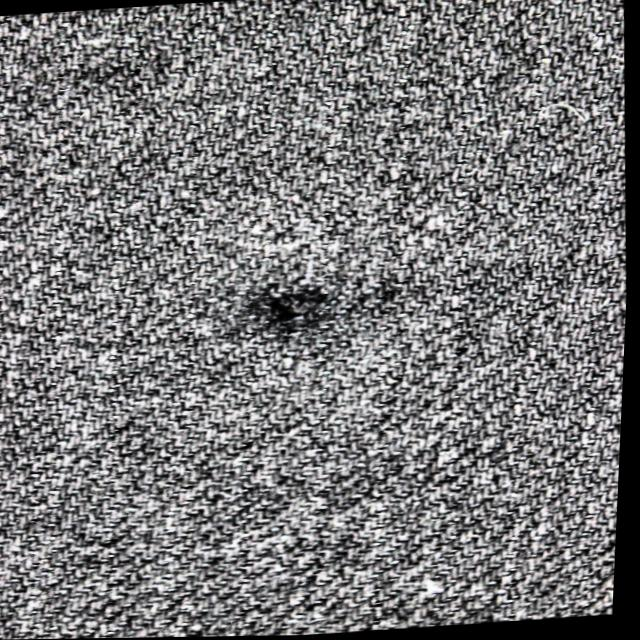Hole: (258, 294, 331, 337)
